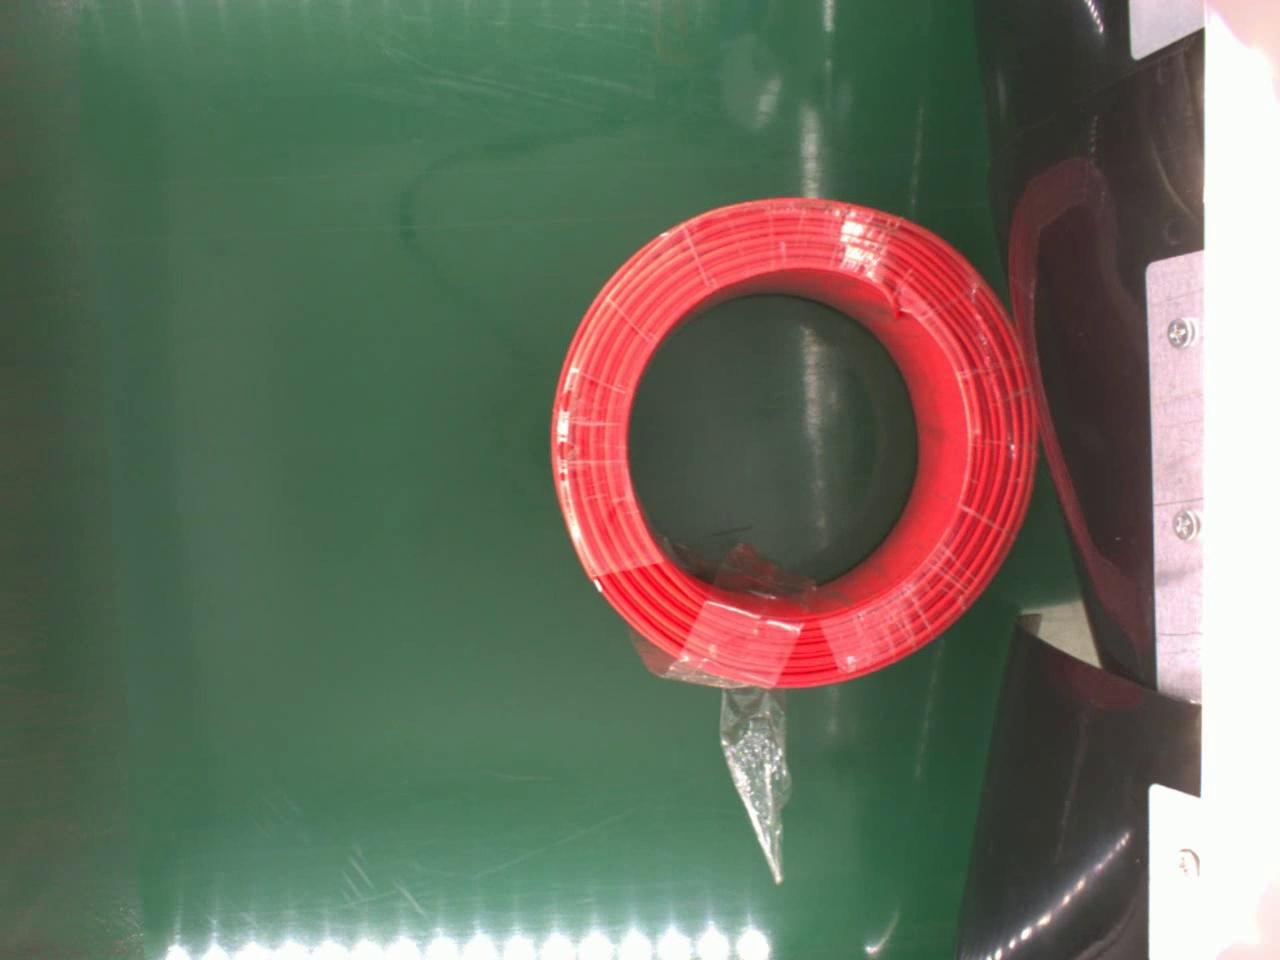red: (547, 193, 1040, 694)
